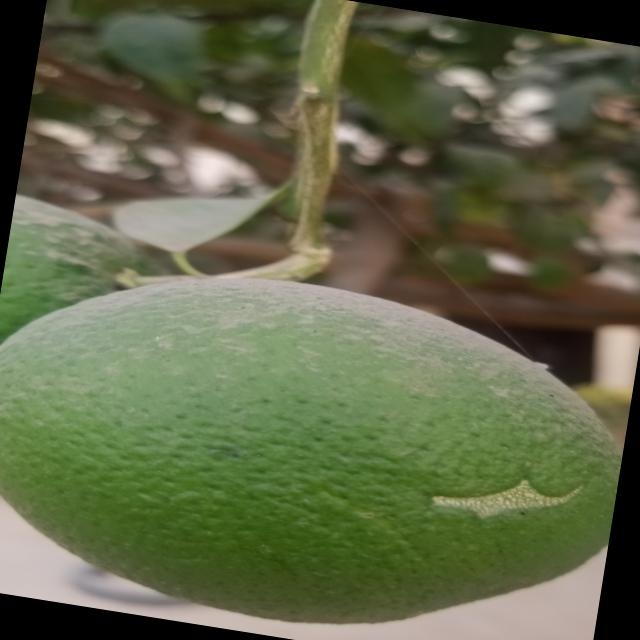agrume: (0, 239, 637, 640)
